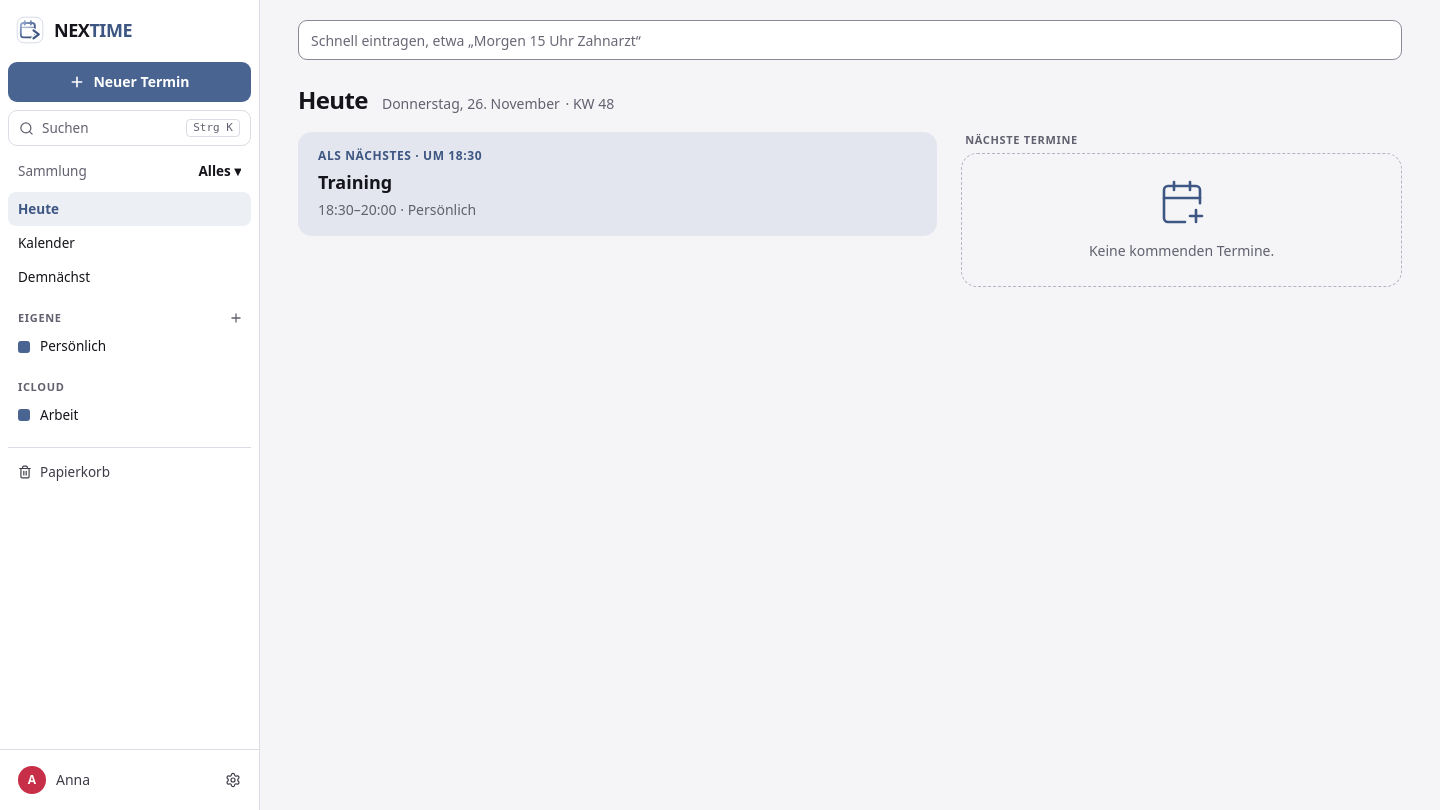
Scenario: TIME-9 the attachments of an event › TIME-9 AC-3 AC-9 with the right to read the attachments show, without × and without the surface
The width and height of the screenshot is (1440, 810).
Click the button with test id "next-day-row" at (400, 156), box [298, 132, 937, 236]
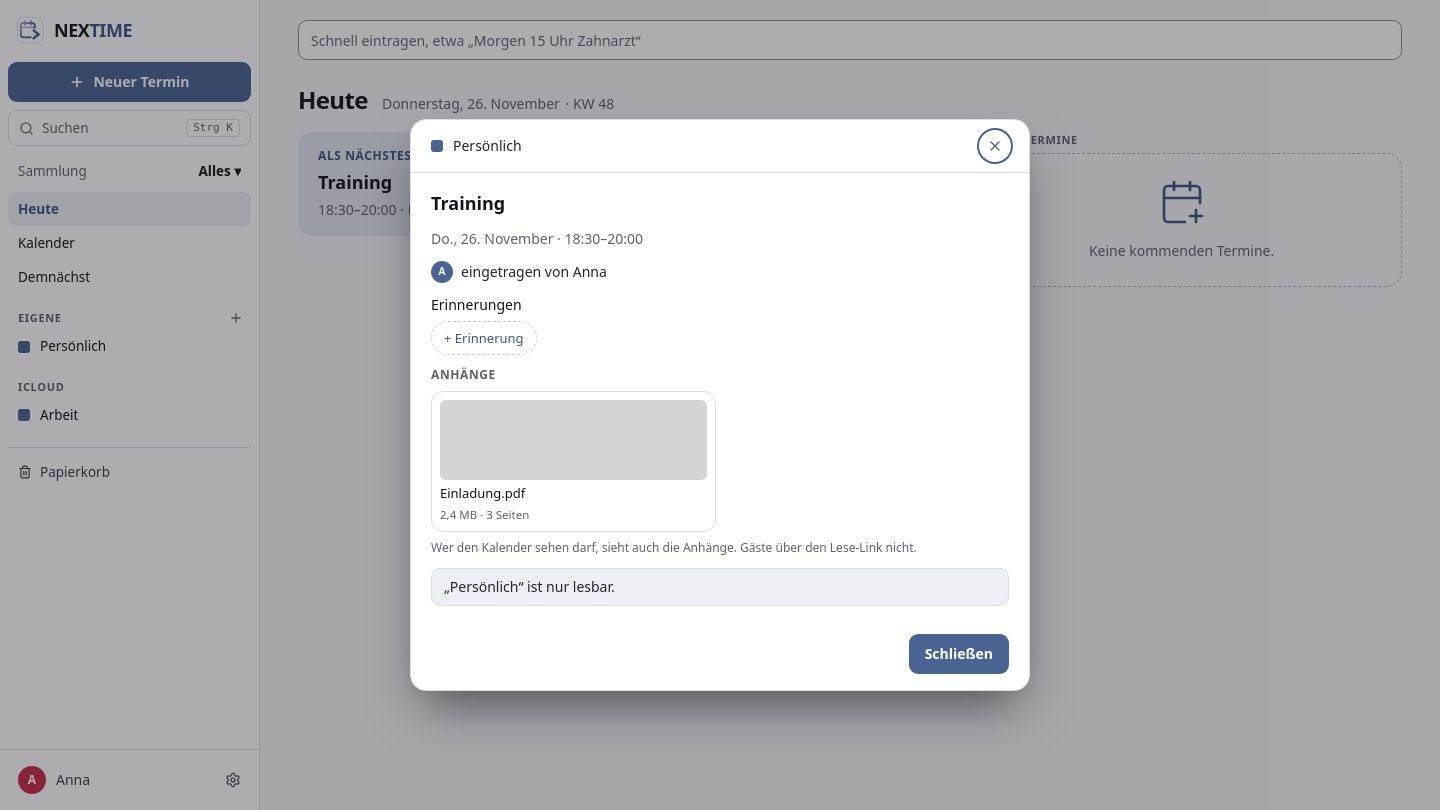
Result: the text with test id "attachment-name" reads "Einladung.pdf" at [440, 484, 525, 502]
